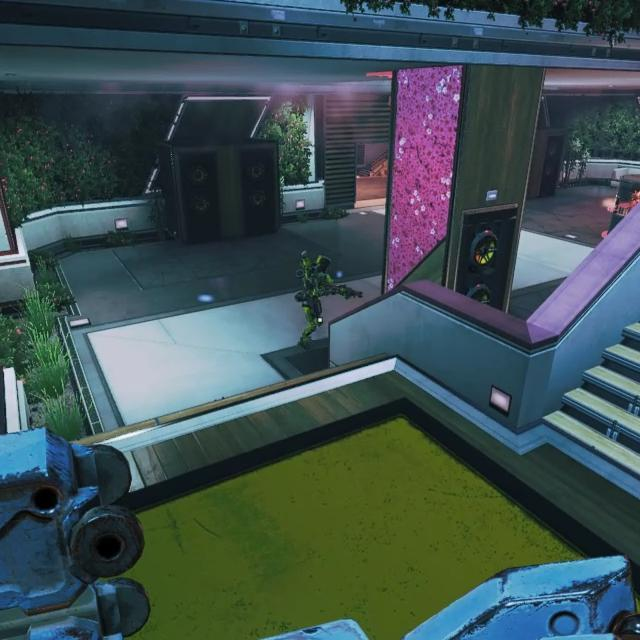avatar: (294, 246, 334, 353)
